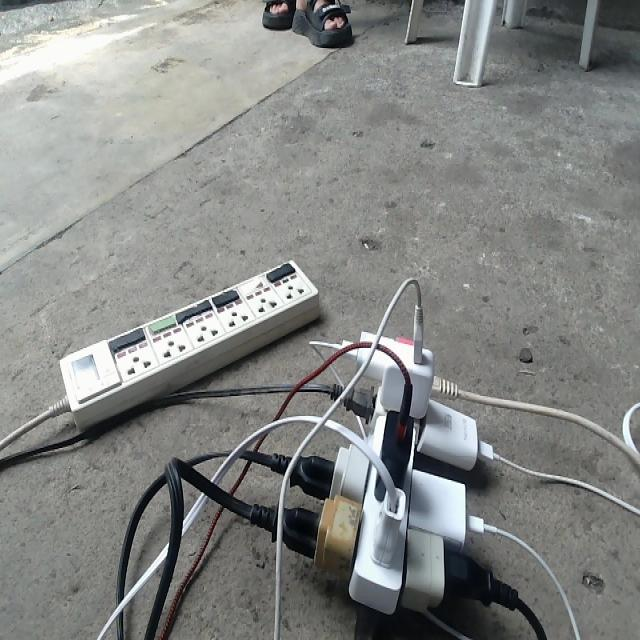-: (245, 300, 521, 615)
